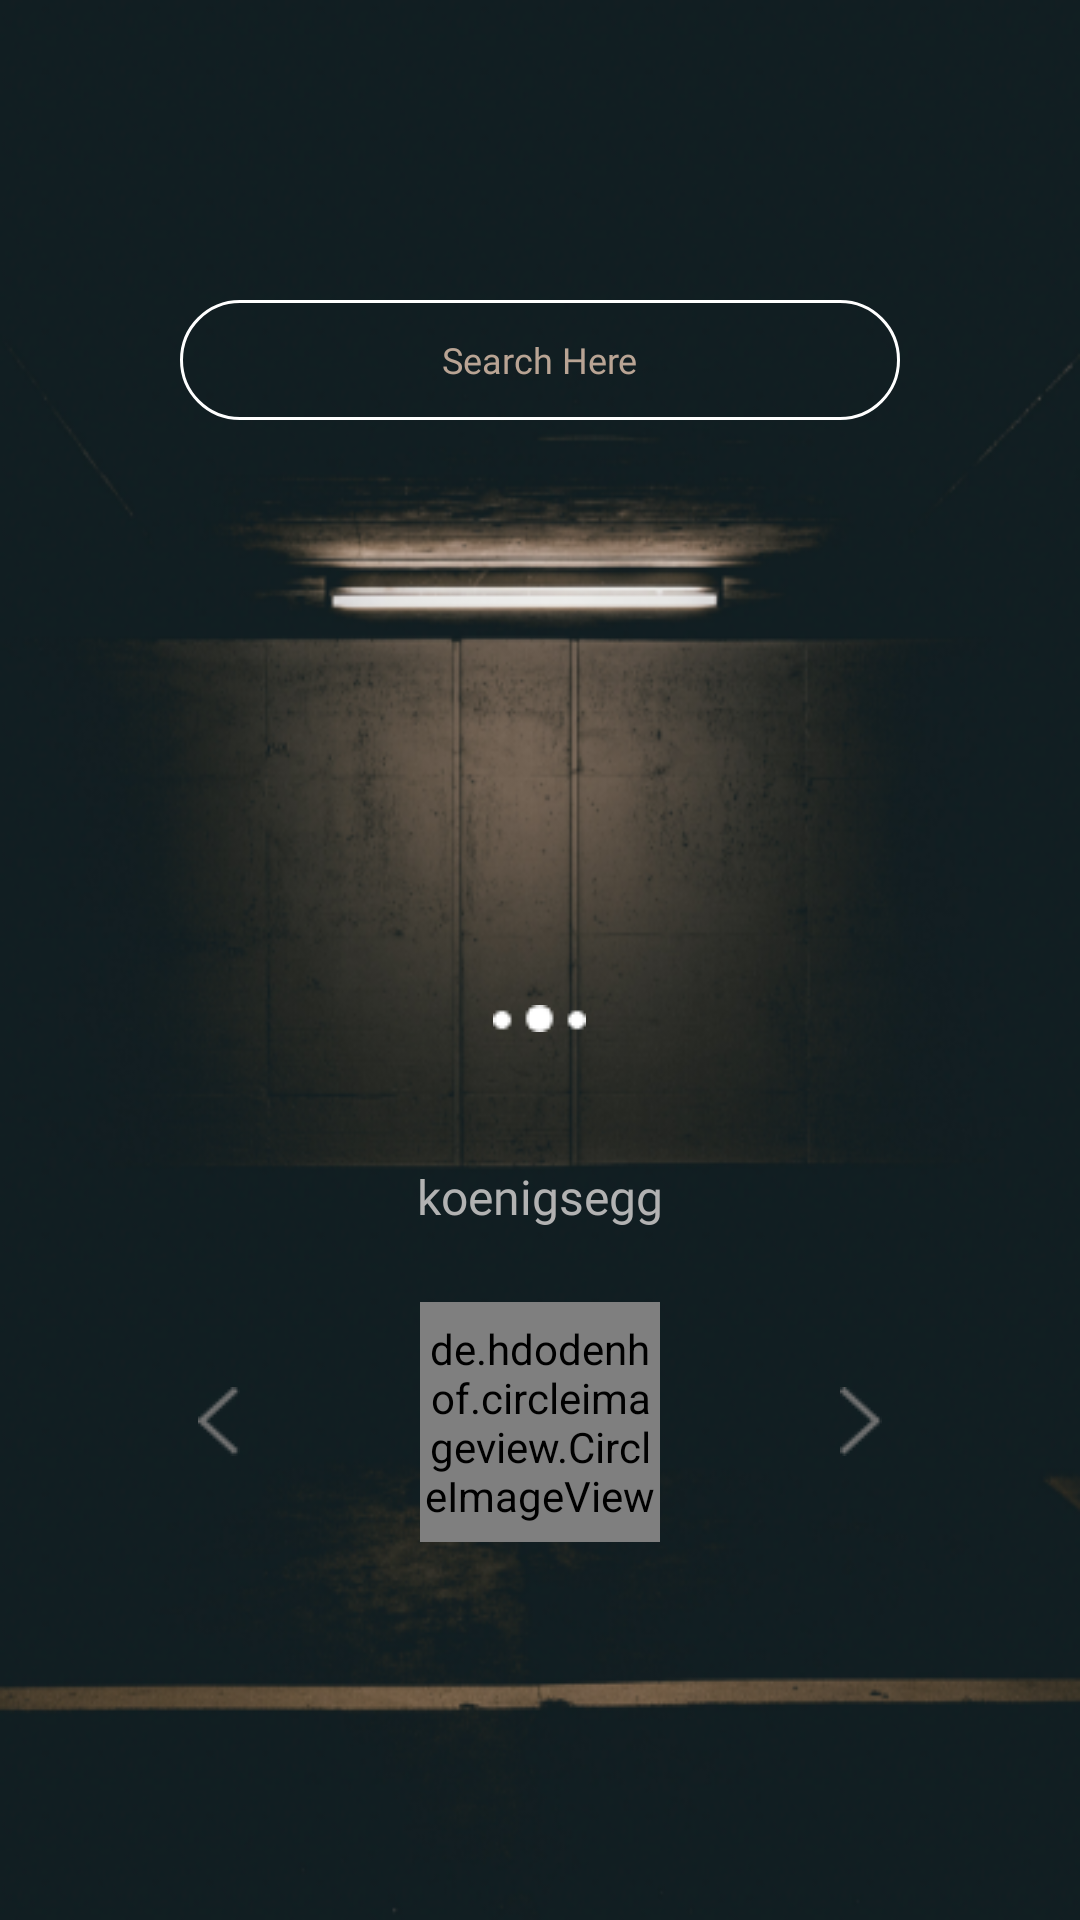

Icon bounding boxes for this 1080*1920 phone screenshot, format bbox=[x1, y1, x2, y2]:
leftarrowselector: bbox=[198, 1387, 238, 1454]
rightarrowselector: bbox=[840, 1387, 880, 1454]
